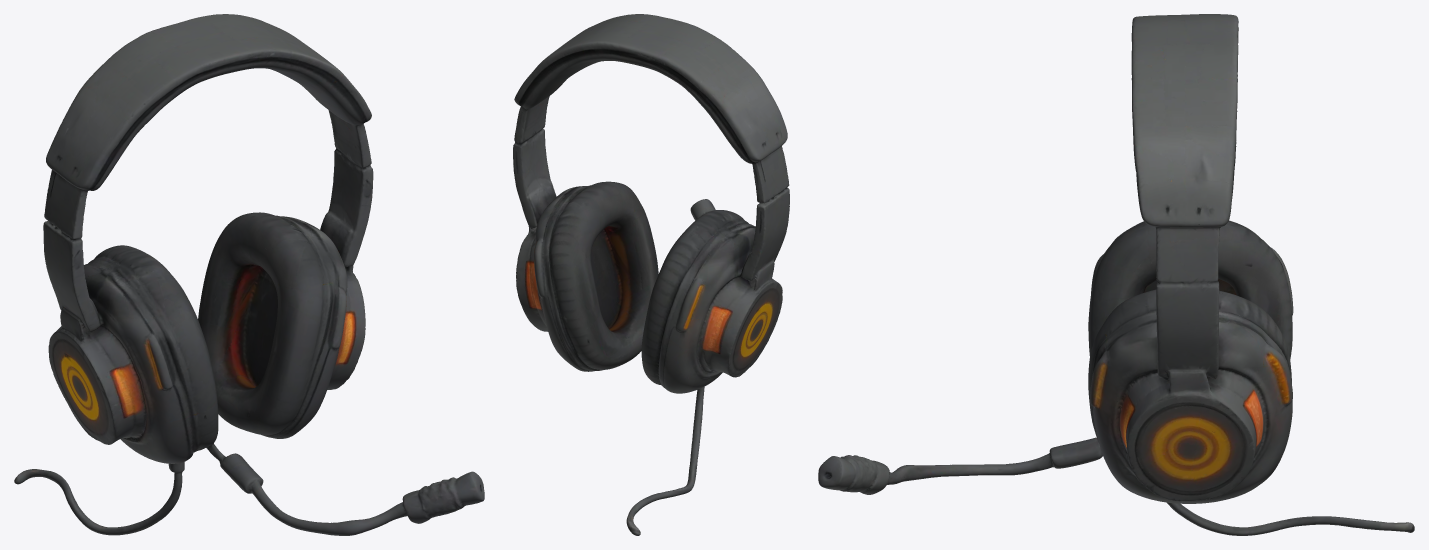
The model's file is headset.glb.
The picture shows the model from 3 angles, left to right: view 1: azimuth 30°, elevation 25°; view 2: azimuth 150°, elevation 25°; view 3: azimuth 270°, elevation 25°; orthographic projection. The views are drawn at different scales.
Bounding box in the file's own units: 1.26 × 2 × 2.
1 material, 1 textured.
